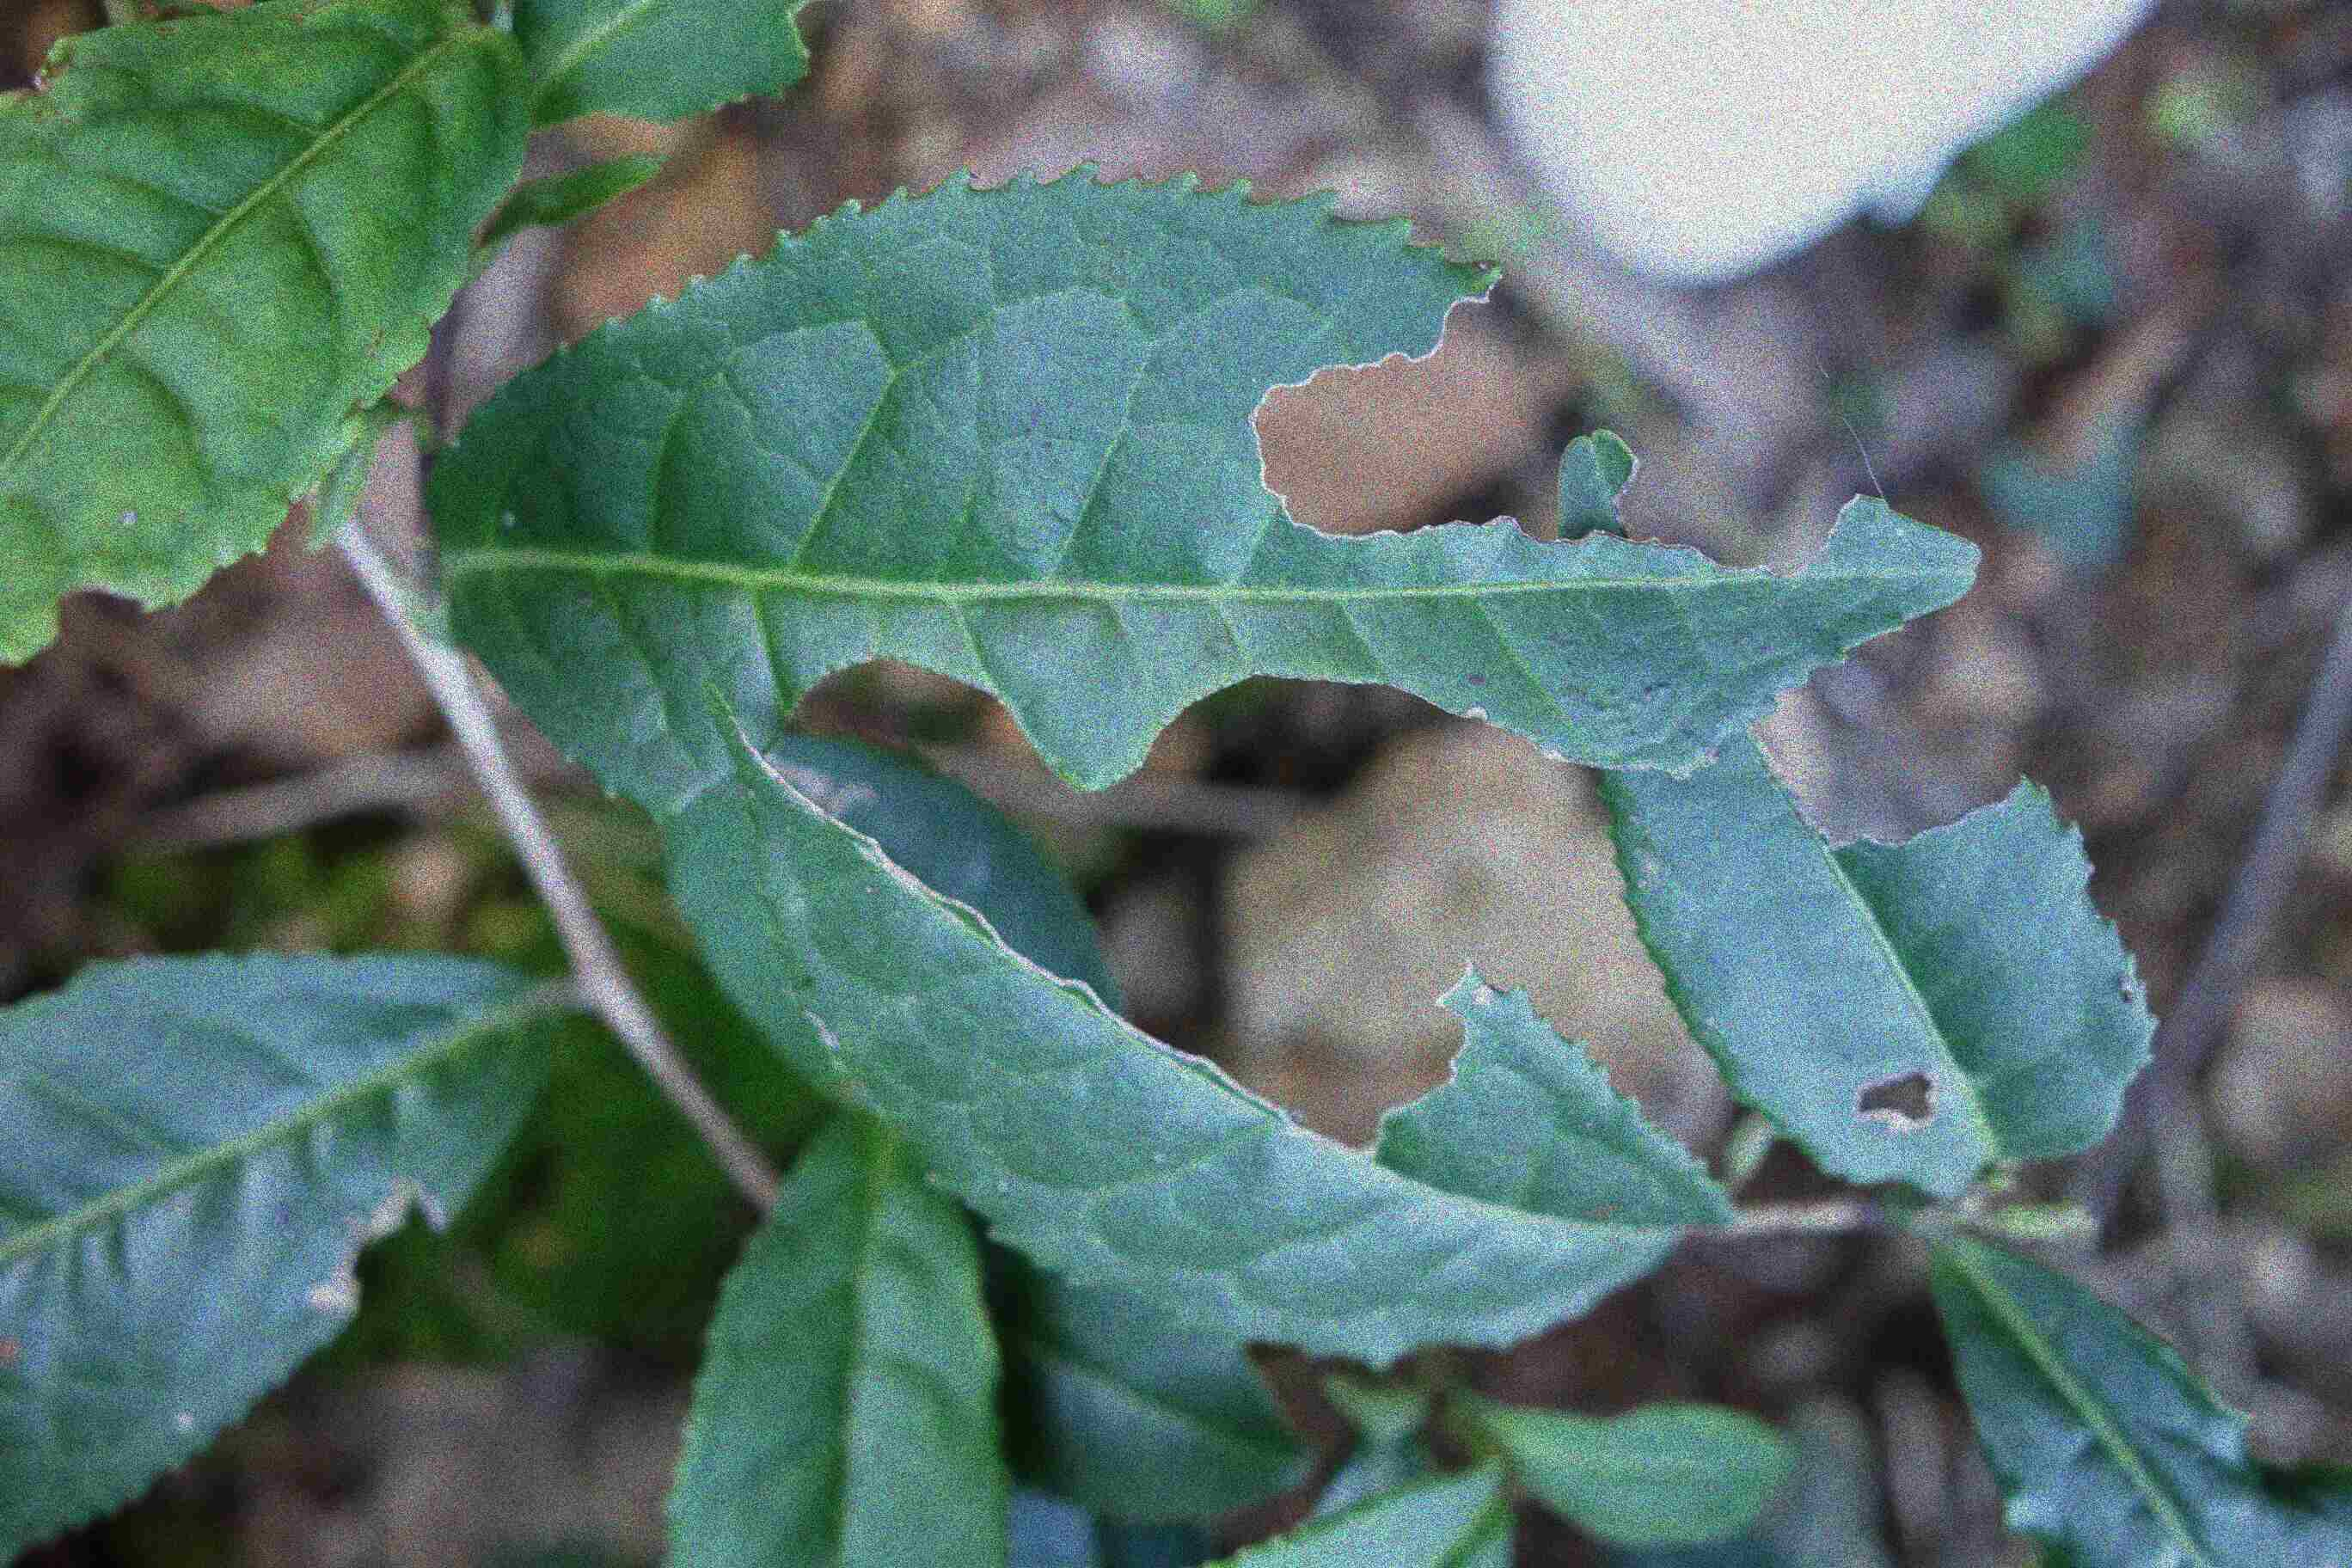chihuo_high: (436, 156, 1986, 828), (709, 681, 1736, 1372), (1554, 429, 2159, 1202)
chihuo_low: (3, 2, 528, 668), (3, 945, 563, 1556)
